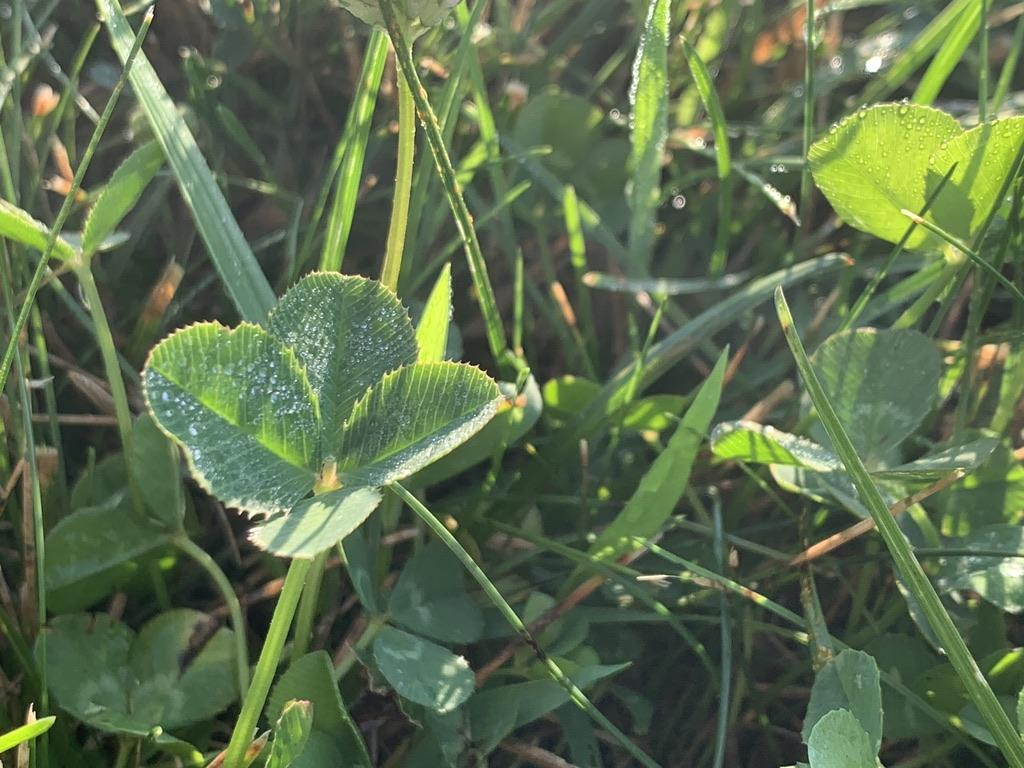4-Leaf-Clovers: (361, 379, 743, 664)
